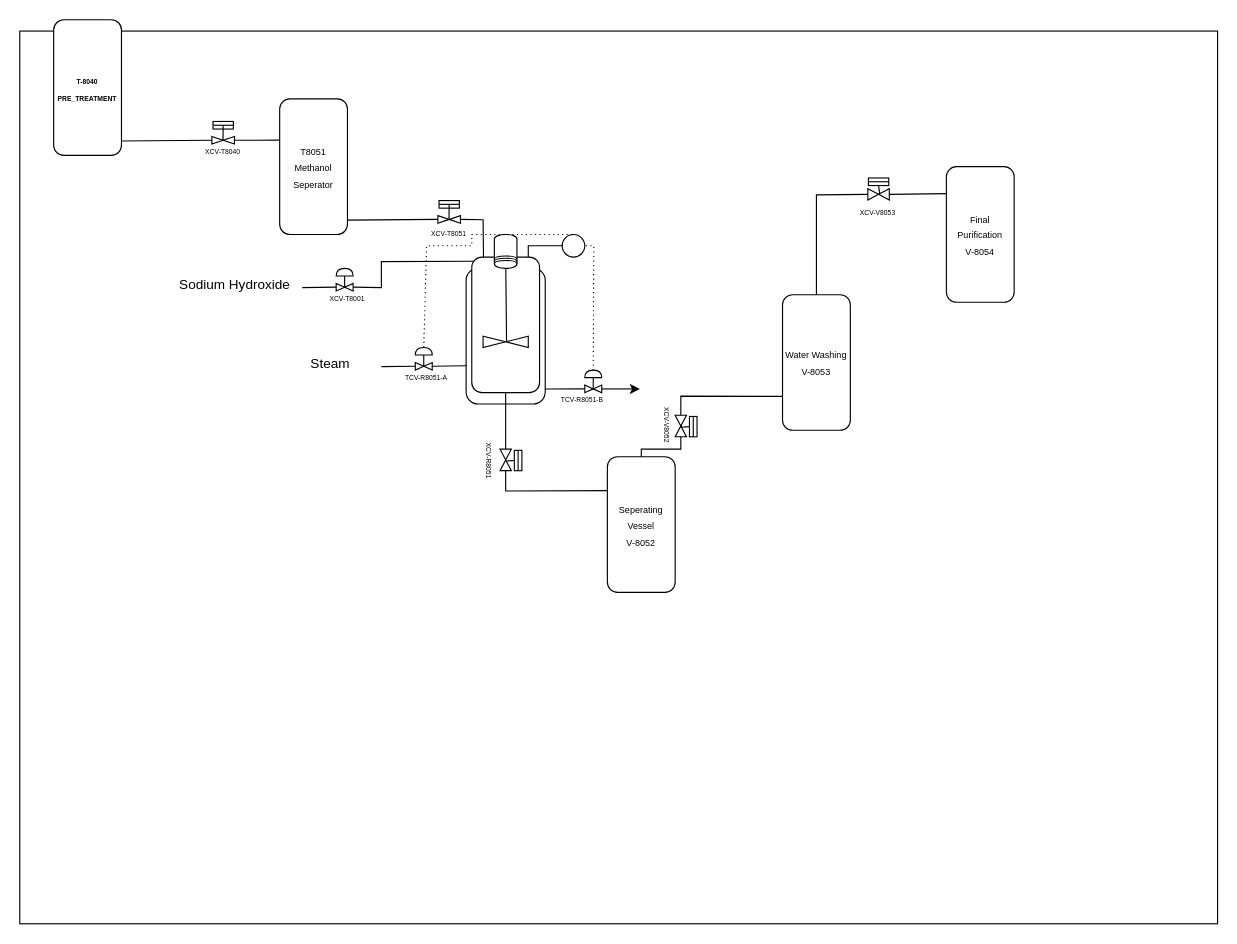
The diagram is 1237 pixels wide and 944 high, and some of its shapes have lost their labels. The box of each missing label's shape, as (x1, y1, x2, y2) in pixels:
Transesterification: (471, 256, 540, 393)
TT-T8051: (561, 233, 585, 257)
